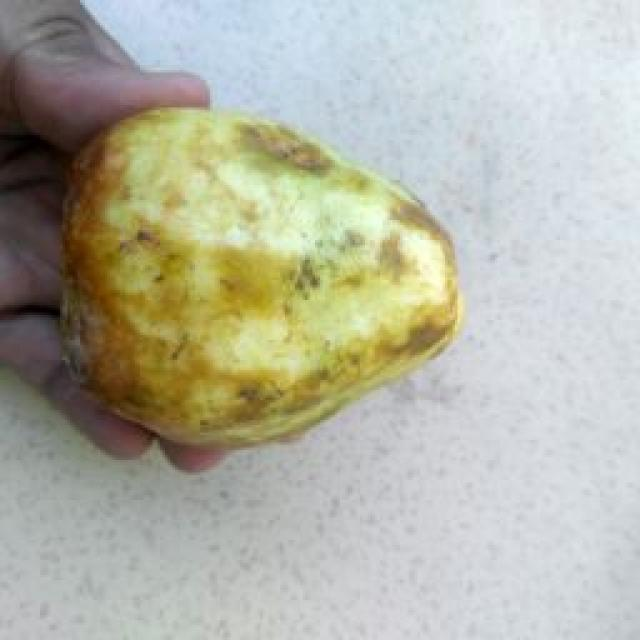Bad_Guava: (65, 109, 461, 446)
